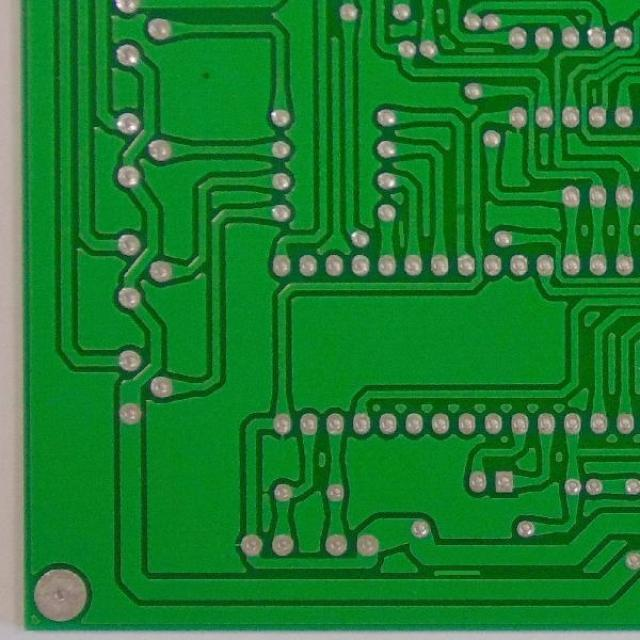Spurious_Cooper: (428, 566, 486, 578), (458, 44, 496, 56), (396, 218, 408, 250), (588, 84, 600, 108)
